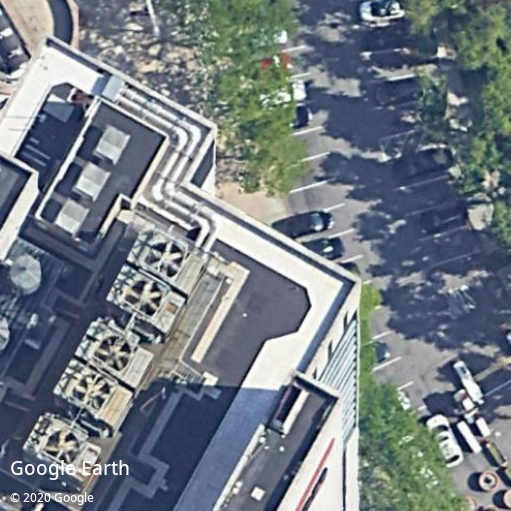Vent: (123, 280, 162, 318), (146, 242, 184, 278), (46, 429, 80, 466), (96, 336, 131, 371), (75, 374, 110, 409)
